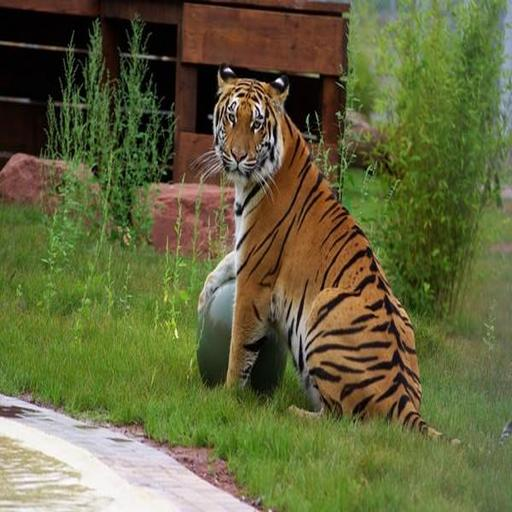Tiger: (186, 56, 499, 482)
